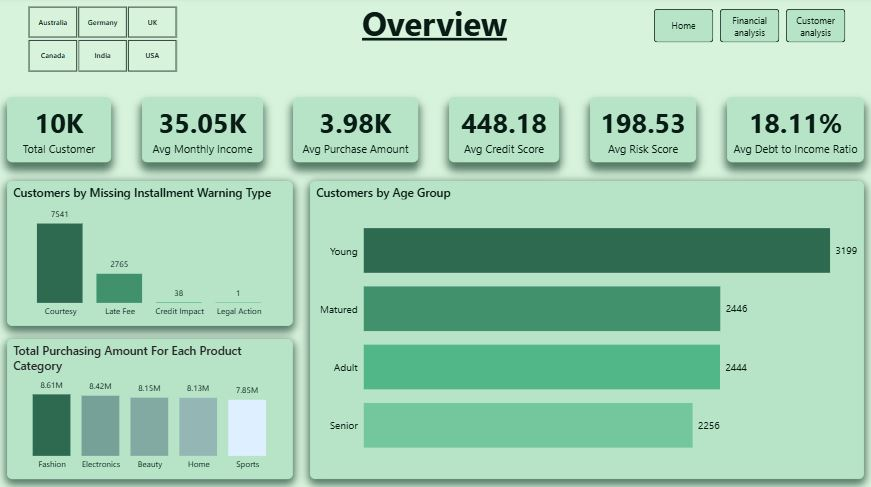

This screenshot's page, from the dashboard's own definition file:
{"tool":"powerbi","page":{"name":"Overview","canvas":[1280,720],"ordinal":1},"visuals":[{"type":"card","fields":{"Values":["Measure.total customer"]},"box":[11.8,146.9,152.8,95.5],"z":0},{"type":"card","fields":{"Values":["Measure.avg monthly income"]},"box":[209.7,146.9,177.8,95.5],"z":1000},{"type":"card","fields":{"Values":["Measure.average purchase amt"]},"box":[432.6,146.9,183.7,95.5],"z":2000},{"type":"card","fields":{"Values":["Measure.avg credit score"]},"box":[661.4,146.9,161.6,95.5],"z":3000},{"type":"card","fields":{"Values":["Measure.avg risk score"]},"box":[868.1,146.9,155.8,95.5],"z":4000},{"type":"card","fields":{"Values":["Measure.avg debt to income ratio"]},"box":[1069,146.9,201.3,95.5],"z":5000},{"type":"columnChart","title":"Customers by Missing Installment Warning Type","fields":{"Y":["CountNonNull(Buy_Now_Pay_Later_BNPL_CreditRisk_Dataset.user_id)"],"Category":["Buy_Now_Pay_Later_BNPL_CreditRisk_Dataset.warning_type"]},"box":[11.8,270.4,420.2,213.1],"z":6000},{"type":"clusteredBarChart","title":"Customers by Age Group","fields":{"Category":["Buy_Now_Pay_Later_BNPL_CreditRisk_Dataset.age grp"],"Y":["CountNonNull(Buy_Now_Pay_Later_BNPL_CreditRisk_Dataset.user_id)"]},"box":[457,270.4,814,437.9],"z":7000},{"type":"slicer","fields":{"Values":["Buy_Now_Pay_Later_BNPL_CreditRisk_Dataset.location"]},"box":[17.6,7.3,267.4,108.7],"z":8000},{"type":"columnChart","title":"Total Purchasing Amount For Each Product Category","fields":{"Category":["Buy_Now_Pay_Later_BNPL_CreditRisk_Dataset.product_category"],"Y":["Sum(Buy_Now_Pay_Later_BNPL_CreditRisk_Dataset.purchase_amount)"]},"box":[11.8,502.5,420.2,205.7],"z":9000},{"type":"textbox","box":[523.2,0,233.6,83.8],"z":10000},{"type":"pageNavigator","box":[962.4,17.6,282.1,50],"z":10001}]}

Visuals, with their boxes in screenshot pixels (x1, y1, x2, y2), scaled from the page's 1280x720 canvas onto the 871x487 screenshot:
card - Measure.total customer: <bbox>8, 99, 112, 164</bbox>
card - Measure.avg monthly income: <bbox>143, 99, 264, 164</bbox>
card - Measure.average purchase amt: <bbox>294, 99, 419, 164</bbox>
card - Measure.avg credit score: <bbox>450, 99, 560, 164</bbox>
card - Measure.avg risk score: <bbox>591, 99, 697, 164</bbox>
card - Measure.avg debt to income ratio: <bbox>727, 99, 864, 164</bbox>
"Customers by Missing Installment Warning Type" columnChart: <bbox>8, 183, 294, 327</bbox>
"Customers by Age Group" clusteredBarChart: <bbox>311, 183, 865, 479</bbox>
slicer - Buy_Now_Pay_Later_BNPL_CreditRisk_Dataset.location: <bbox>12, 5, 194, 78</bbox>
"Total Purchasing Amount For Each Product Category" columnChart: <bbox>8, 340, 294, 479</bbox>
textbox: <bbox>356, 0, 515, 57</bbox>
pageNavigator: <bbox>655, 12, 847, 46</bbox>
